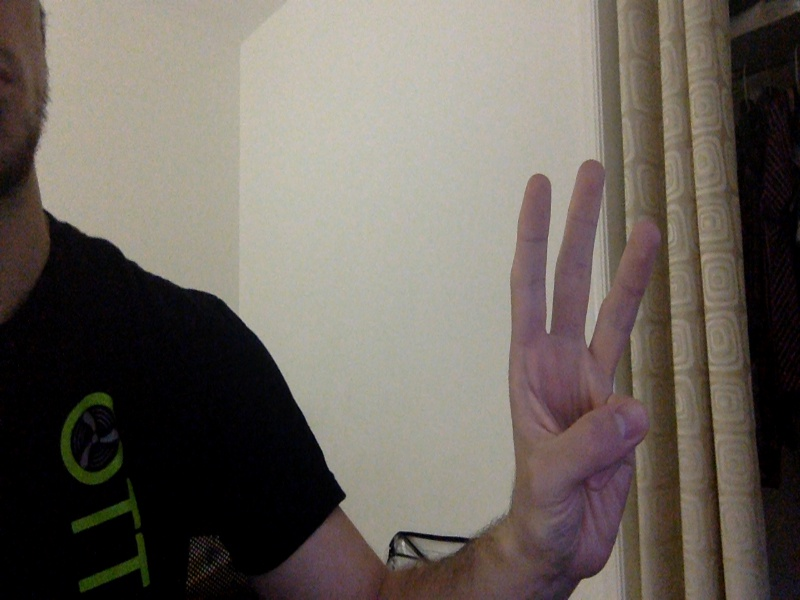3-hand: (509, 159, 661, 576)
